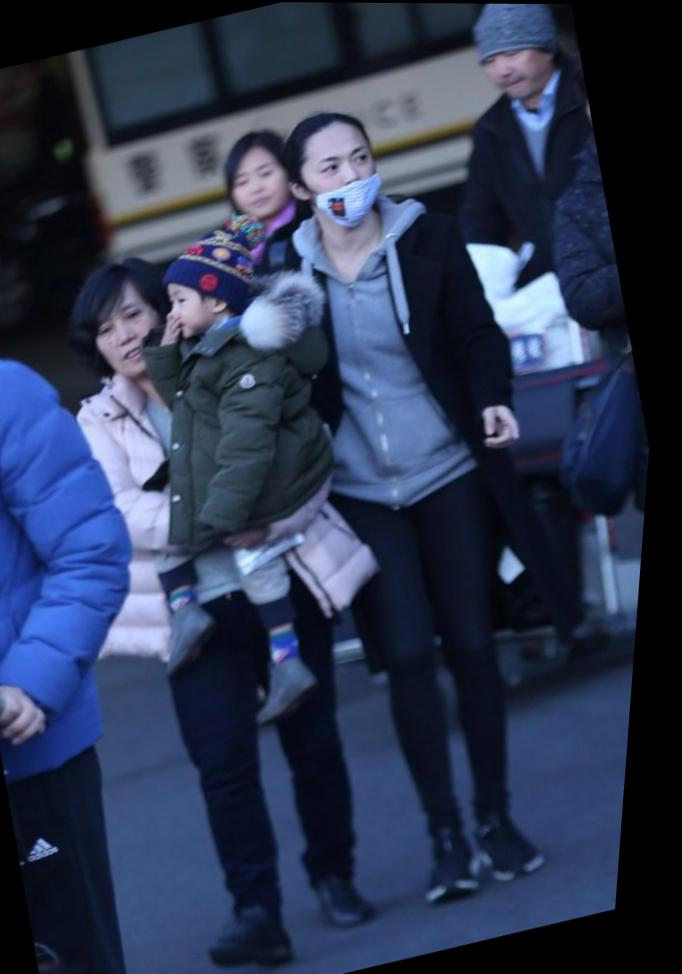NONE: (97, 297, 178, 381), (483, 37, 555, 106), (228, 156, 297, 221), (168, 276, 230, 340)
WRONG: (299, 137, 396, 229)
